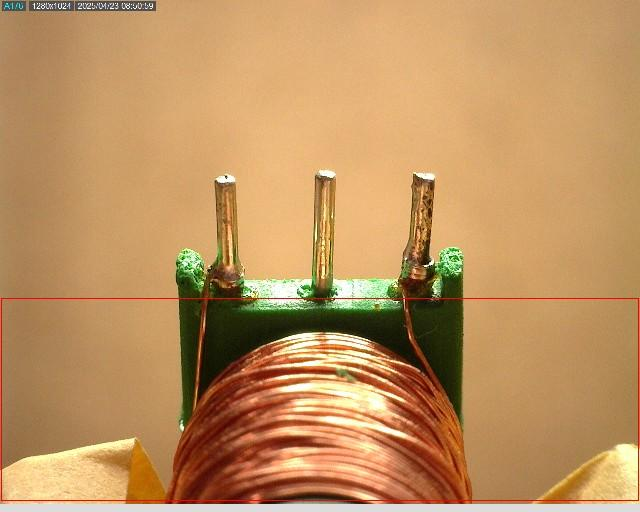obsolete: (389, 159, 445, 284)
